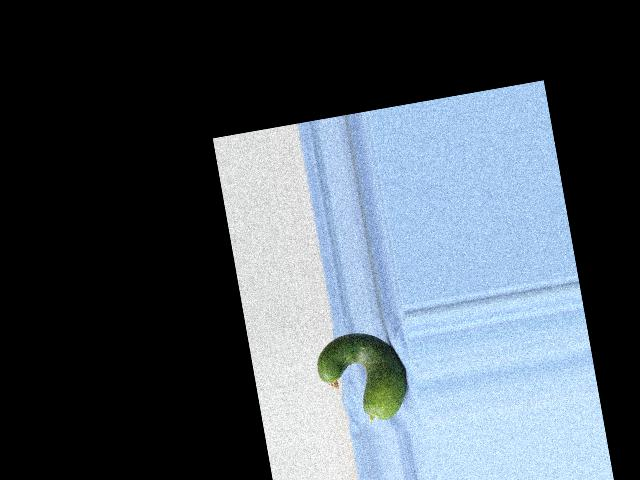cucumber: (312, 325, 412, 430)
